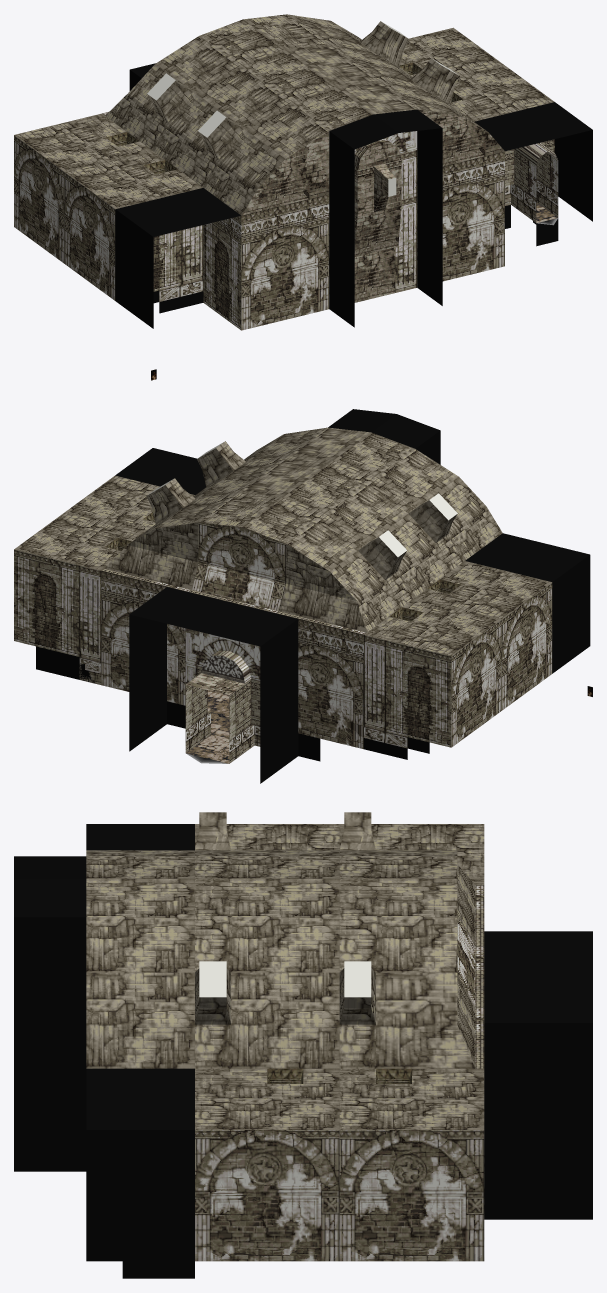
File: MAP052.obj
3 renders of one model, top to bottom at view 1: azimuth 30°, elevation 25°; view 2: azimuth 150°, elevation 25°; view 3: azimuth 270°, elevation 25°, orthographic. The views are drawn at different scales.
Visible parts, largest first — view 1: mesh_29, mesh_43, mesh_22, mesh_54, mesh_60, mesh_44, mesh_42, mesh_61, mesh_56, mesh_26, mesh_58, mesh_28 (+14 smaller); view 2: mesh_29, mesh_48, mesh_41, mesh_60, mesh_44, mesh_32, mesh_45, mesh_13, mesh_61, mesh_11, mesh_46, mesh_43 (+13 smaller); view 3: mesh_29, mesh_41, mesh_49, mesh_43, mesh_42, mesh_16, mesh_61, mesh_44, mesh_62, mesh_30, mesh_39, mesh_32 (+1 smaller).
Boxes of the visible parts, bbox=[...] form: mesh_29: bbox=[14, 14, 554, 215]; mesh_43: bbox=[329, 109, 442, 327]; mesh_22: bbox=[241, 109, 504, 256]; mesh_54: bbox=[241, 174, 504, 314]; mesh_60: bbox=[14, 135, 115, 277]; mesh_44: bbox=[115, 188, 240, 328]; mesh_42: bbox=[474, 102, 592, 221]; mesh_61: bbox=[147, 21, 459, 160]; mesh_56: bbox=[241, 151, 504, 238]; mesh_26: bbox=[159, 221, 228, 320]; mesh_58: bbox=[153, 229, 241, 320]; mesh_28: bbox=[14, 204, 115, 300]; mesh_29: bbox=[14, 427, 551, 655]; mesh_48: bbox=[14, 549, 451, 742]; mesh_41: bbox=[129, 587, 298, 783]; mesh_60: bbox=[451, 582, 552, 724]; mesh_44: bbox=[465, 533, 590, 673]; mesh_32: bbox=[192, 522, 285, 610]; mesh_45: bbox=[101, 593, 363, 703]; mesh_13: bbox=[101, 648, 363, 749]; mesh_61: bbox=[146, 441, 457, 579]; mesh_11: bbox=[79, 571, 407, 748]; mesh_46: bbox=[185, 628, 260, 740]; mesh_43: bbox=[328, 409, 440, 464]; mesh_29: bbox=[86, 824, 484, 1129]; mesh_41: bbox=[484, 931, 592, 1219]; mesh_49: bbox=[195, 1130, 484, 1228]; mesh_43: bbox=[14, 856, 86, 1171]; mesh_42: bbox=[86, 1068, 194, 1261]; mesh_16: bbox=[195, 1162, 484, 1261]; mesh_61: bbox=[195, 812, 375, 1024]; mesh_44: bbox=[86, 824, 194, 850]; mesh_62: bbox=[199, 961, 371, 997]; mesh_30: bbox=[475, 885, 484, 1068]; mesh_39: bbox=[122, 1261, 194, 1278]; mesh_32: bbox=[457, 914, 475, 1006].
Size of the model in its own units: 258 by 118 by 205.
Materials: 19 (19 with a texture image).
